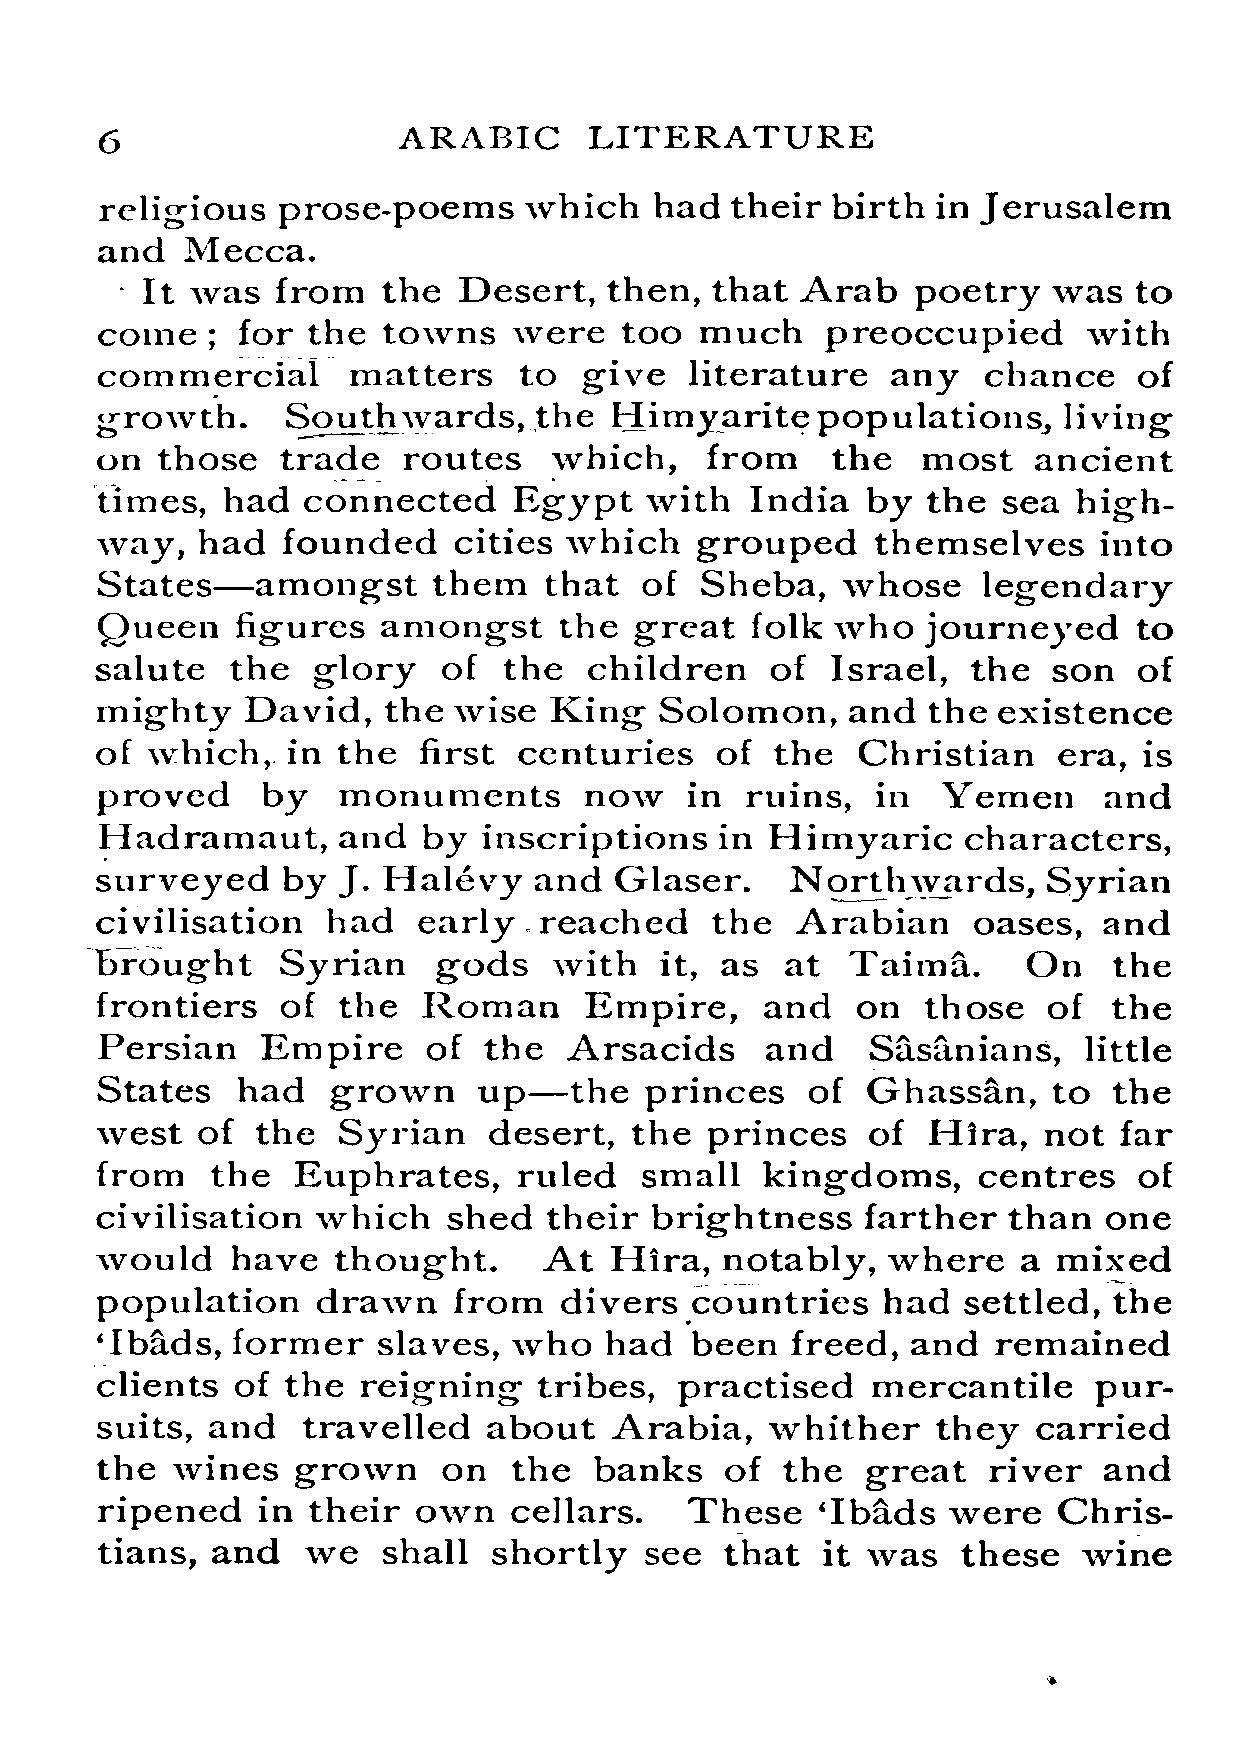content: (93, 185, 1177, 1577)
content_chapter: (392, 119, 878, 152)
content_pagenumber: (86, 117, 123, 160)
